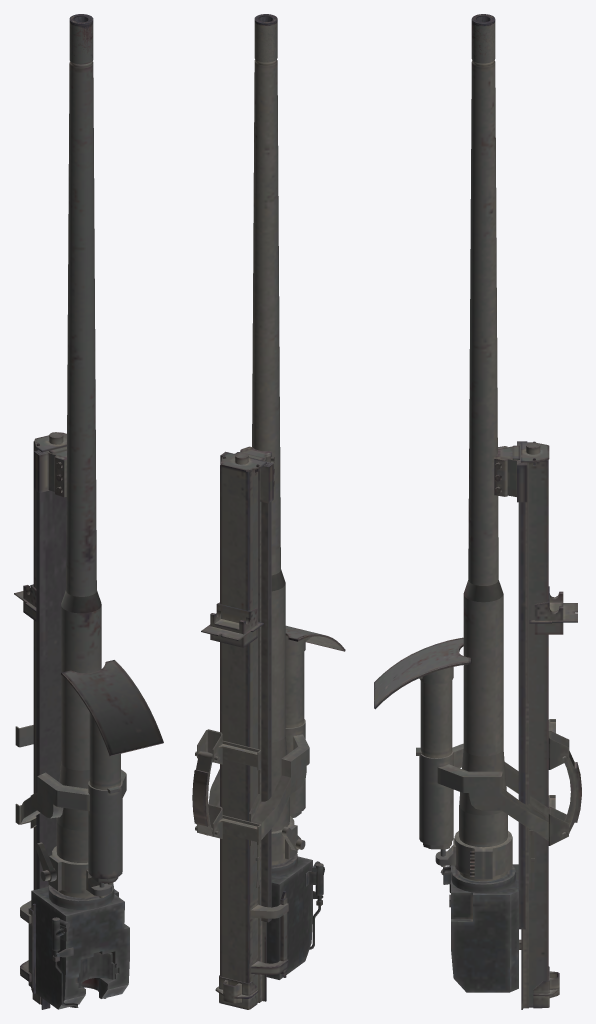
File: Gun_02.glb
3 views of the same model, side by side, from view 1: azimuth 30°, elevation 25°; view 2: azimuth 150°, elevation 25°; view 3: azimuth 270°, elevation 25° (orthographic). The views are drawn at different scales.
Parts seen in each view (by area): view 1: set_0_group_0; view 2: set_0_group_0; view 3: set_0_group_0.
Boxes of the visible parts, <box> form: set_0_group_0: <box>14,14,163,1009</box>; set_0_group_0: <box>192,14,345,1009</box>; set_0_group_0: <box>374,14,581,1009</box>.
Bounding box in the file's own units: 0.4611 × 5.58 × 1.07.
1 material, 1 textured.
